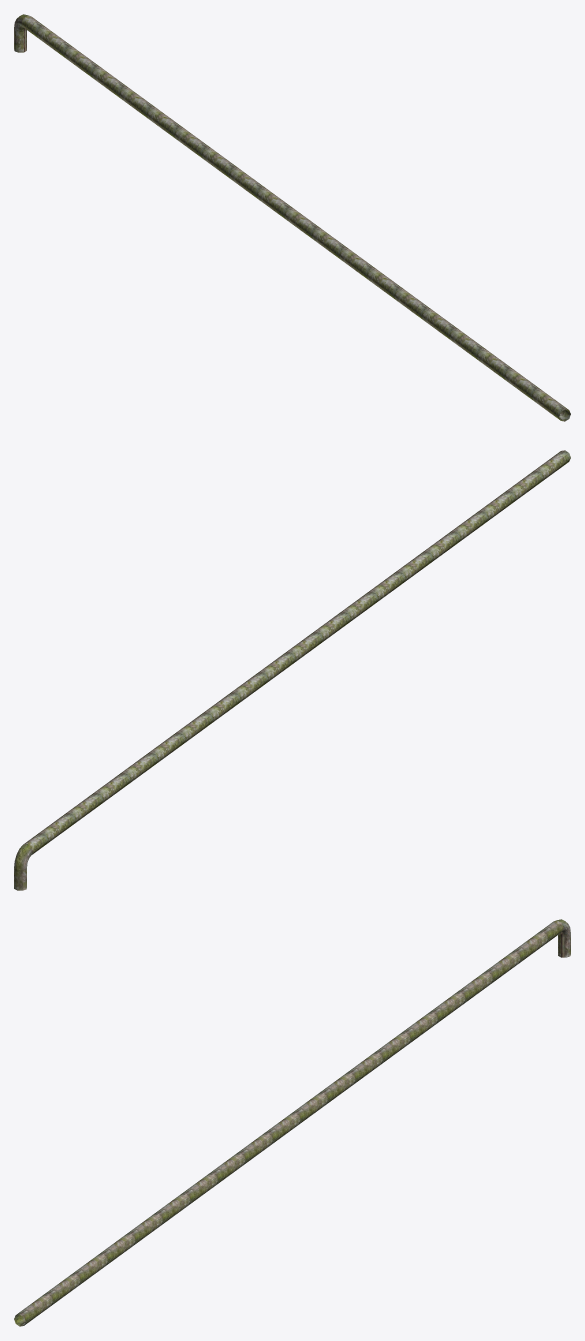
Rendered from pipe.fbx.
3 views of the same model, one above another, from view 1: azimuth 30°, elevation 25°; view 2: azimuth 150°, elevation 25°; view 3: azimuth 330°, elevation 25° (orthographic).
Visible parts, largest first — view 1: Pipe.002; view 2: Pipe.002, Pipe.001; view 3: Pipe.002.
Boxes of the visible parts, left/top/right/bottom form: Pipe.002: left=21, top=16, right=570, bottom=421; Pipe.002: left=23, top=450, right=570, bottom=854; Pipe.001: left=14, top=844, right=33, bottom=890; Pipe.002: left=14, top=921, right=563, bottom=1326.
Size of the model in its own units: 25 by 79.5 by 2013.
